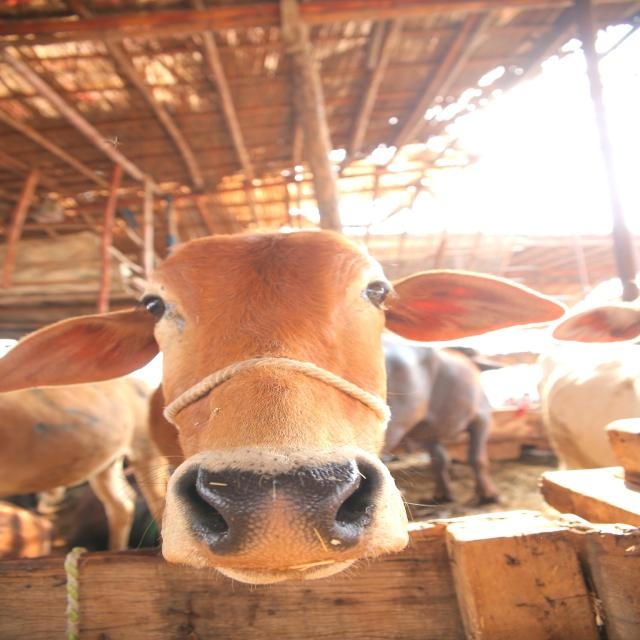muzzles: (166, 457, 390, 572)
